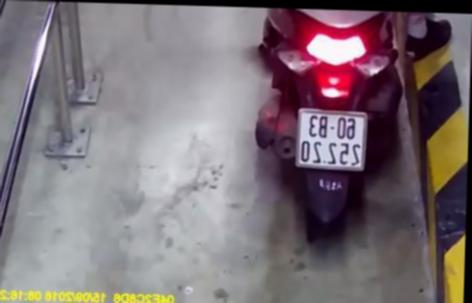License_Plate: (285, 103, 374, 173)
